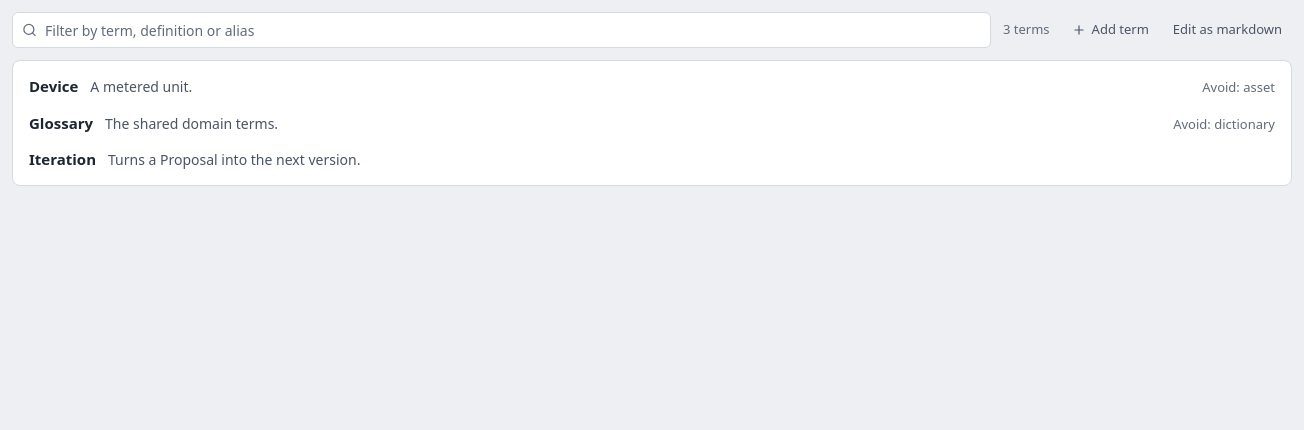
Test: GlossaryPanel › on a long Glossary › disables the filter while editing the whole markdown, then applies it again
The image size is (1304, 430).
Type "gloss" into the search field named "Filter terms". click: [502, 30]
box: [12, 12, 991, 48]
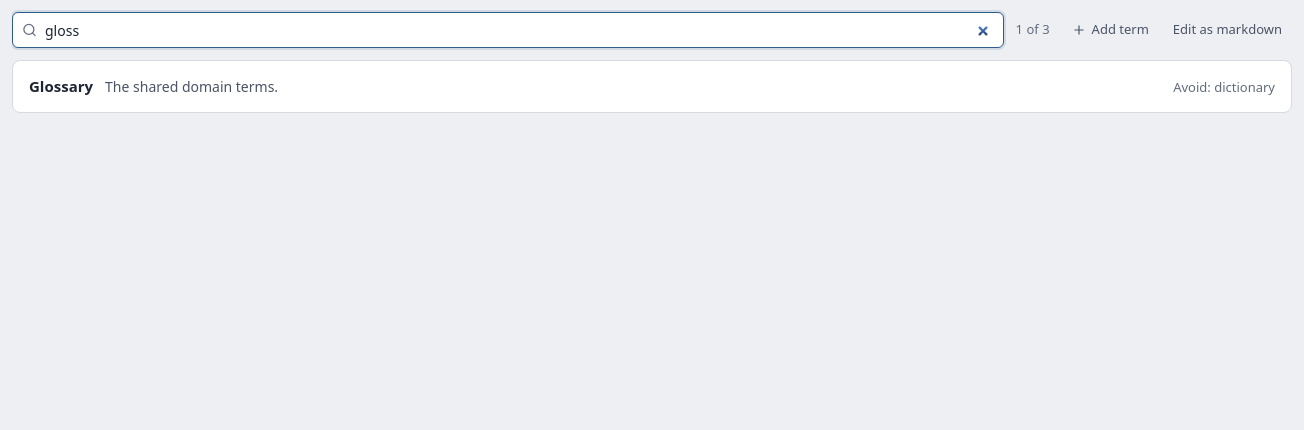
Click the button "Edit as markdown". click: [1227, 30]
box: [1163, 16, 1292, 44]
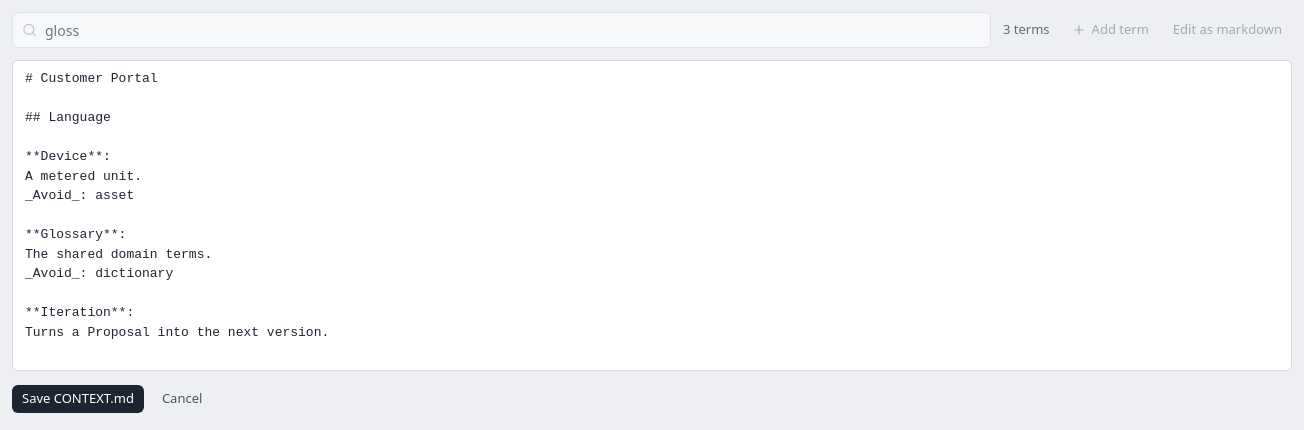
Now the search field named "Filter terms" is disabled, box [12, 12, 991, 48]
Click the button "Cancel". click: [182, 398]
box: [152, 384, 212, 412]
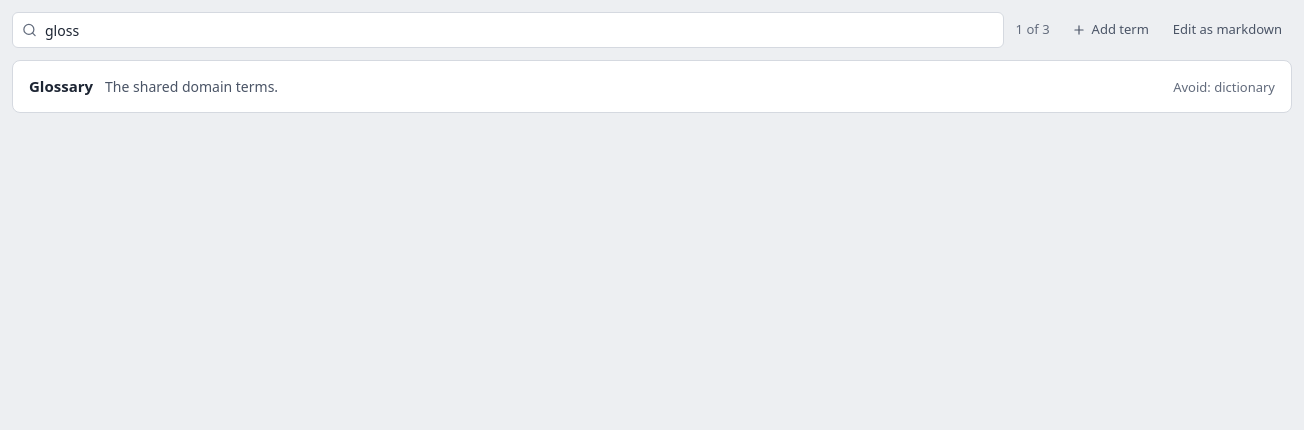
Now the search field named "Filter terms" is enabled, box [12, 12, 1004, 48]
